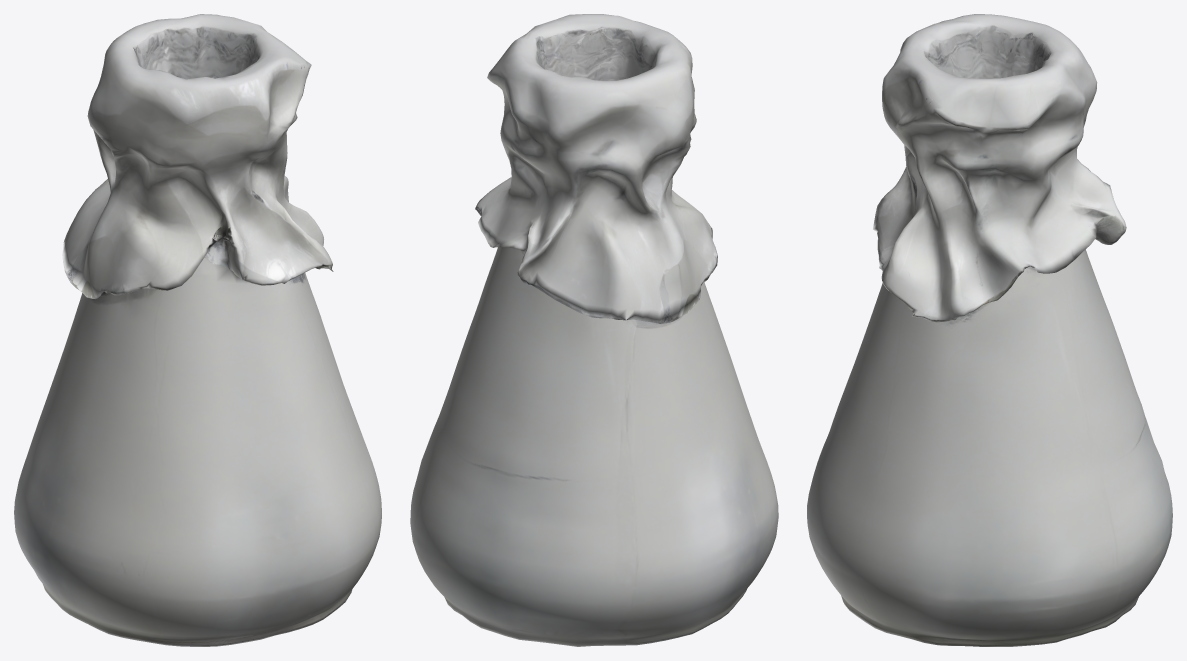
The model's file is Lab_Experiment_Flask_0813060917_texture.fbx.
The picture shows the model from 3 angles, left to right: view 1: azimuth 30°, elevation 25°; view 2: azimuth 150°, elevation 25°; view 3: azimuth 270°, elevation 25°; orthographic projection.
Parts seen in each view (by area): view 1: input; view 2: input; view 3: input.
Part boxes in pixels (x1,y1,x2,y2): input: [14, 14, 381, 646]; input: [410, 14, 778, 646]; input: [807, 14, 1172, 646].
Size of the model in its own units: 122 by 199 by 123.
Materials: 1 (1 with a texture image).
